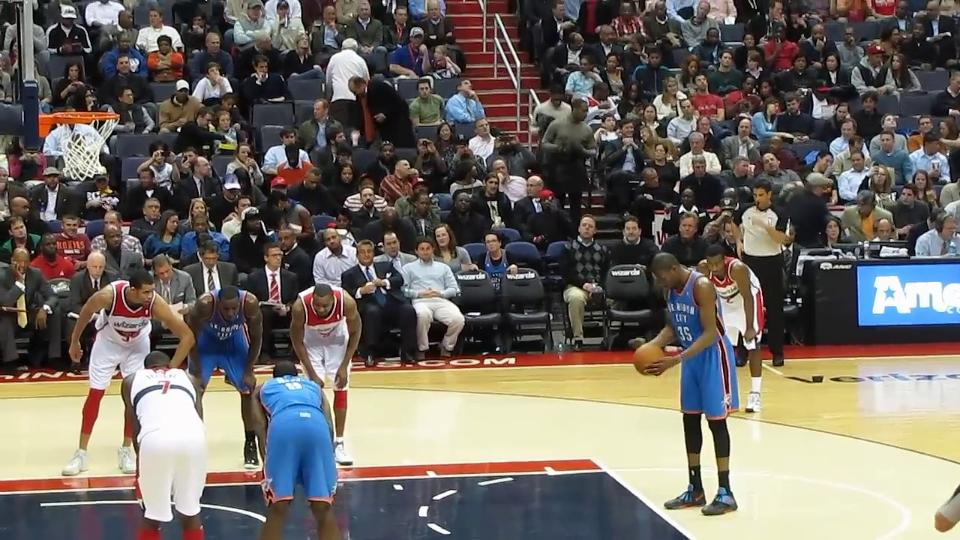hoop: (36, 108, 122, 130)
